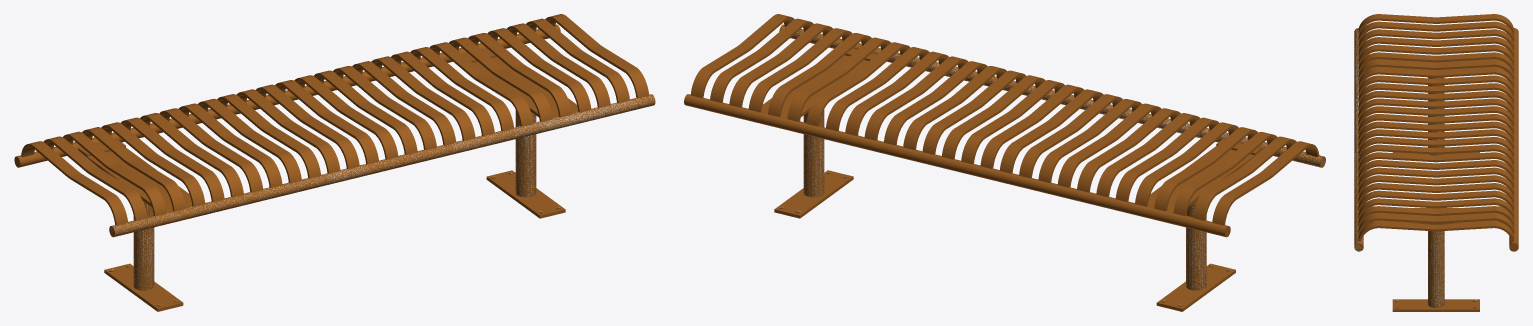
The picture shows the model from 3 angles, left to right: view 1: azimuth 30°, elevation 25°; view 2: azimuth 150°, elevation 25°; view 3: azimuth 270°, elevation 25°; orthographic projection. The views are drawn at different scales.
Visible parts, largest first — view 1: mesh3_mesh3-geometry, mesh5_mesh5-geometry, mesh37_mesh37-geometry, mesh20_mesh20-geometry, mesh1_mesh1-geometry, mesh8_mesh8-geometry, mesh25_mesh25-geometry; view 2: mesh3_mesh3-geometry, mesh1_mesh1-geometry, mesh37_mesh37-geometry, mesh20_mesh20-geometry, mesh5_mesh5-geometry, mesh8_mesh8-geometry, mesh25_mesh25-geometry; view 3: mesh3_mesh3-geometry, mesh37_mesh37-geometry, mesh1_mesh1-geometry, mesh5_mesh5-geometry, mesh25_mesh25-geometry, mesh8_mesh8-geometry, mesh20_mesh20-geometry.
Part boxes in pixels (bbox=[...]): mesh3_mesh3-geometry: bbox=[21, 14, 649, 225]; mesh5_mesh5-geometry: bbox=[109, 94, 655, 237]; mesh37_mesh37-geometry: bbox=[486, 110, 565, 218]; mesh20_mesh20-geometry: bbox=[104, 201, 183, 311]; mesh1_mesh1-geometry: bbox=[14, 24, 560, 167]; mesh8_mesh8-geometry: bbox=[78, 139, 192, 212]; mesh25_mesh25-geometry: bbox=[463, 48, 578, 117]; mesh3_mesh3-geometry: bbox=[690, 14, 1319, 225]; mesh1_mesh1-geometry: bbox=[684, 94, 1230, 237]; mesh37_mesh37-geometry: bbox=[774, 109, 853, 218]; mesh20_mesh20-geometry: bbox=[1156, 200, 1235, 311]; mesh5_mesh5-geometry: bbox=[779, 24, 1325, 167]; mesh8_mesh8-geometry: bbox=[1148, 139, 1261, 212]; mesh25_mesh25-geometry: bbox=[761, 48, 876, 117]; mesh3_mesh3-geometry: bbox=[1358, 14, 1514, 241]; mesh37_mesh37-geometry: bbox=[1392, 231, 1479, 311]; mesh1_mesh1-geometry: bbox=[1509, 28, 1518, 251]; mesh5_mesh5-geometry: bbox=[1354, 28, 1363, 251]; mesh25_mesh25-geometry: bbox=[1366, 206, 1506, 225]; mesh8_mesh8-geometry: bbox=[1366, 54, 1506, 71]; mesh20_mesh20-geometry: bbox=[1392, 77, 1479, 159].
Size of the model in its own units: 0.9277 by 0.2228 by 0.2995.
